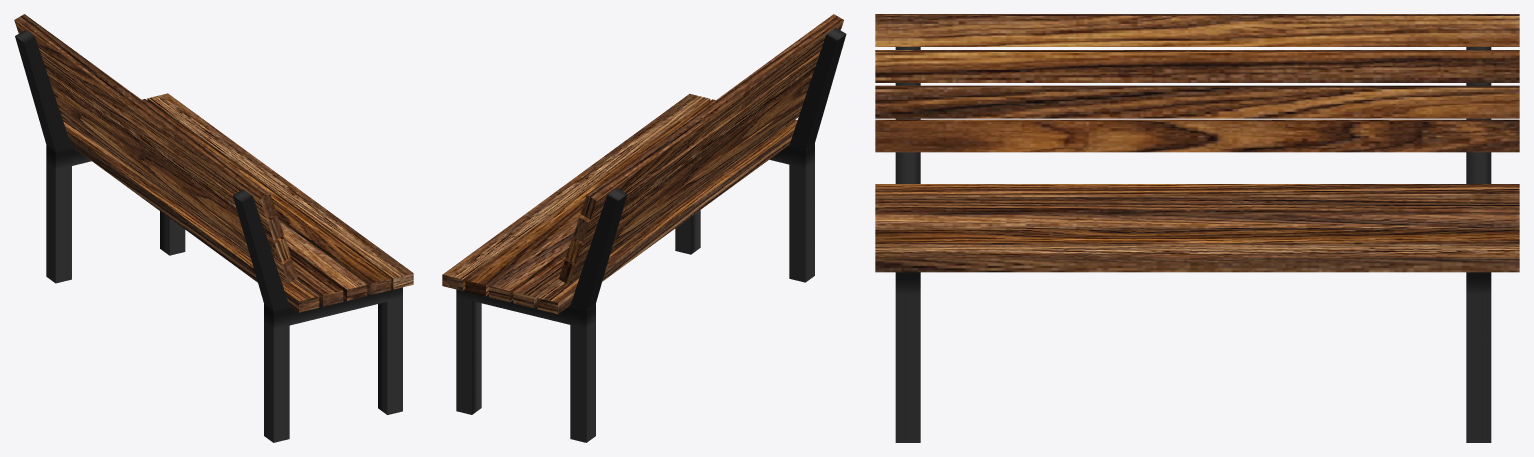
File: PARK_BENCH.fbx
3 renders of one model, left to right at view 1: azimuth 30°, elevation 25°; view 2: azimuth 150°, elevation 25°; view 3: azimuth 270°, elevation 25°, orthographic. The views are drawn at different scales.
Visible parts, largest first — view 1: PARK_BENCH; view 2: PARK_BENCH; view 3: PARK_BENCH.
Boxes of the visible parts, <box> form: PARK_BENCH: <box>14,14,413,442</box>; PARK_BENCH: <box>442,14,846,442</box>; PARK_BENCH: <box>875,14,1519,442</box>.
Size of the model in its own units: 68.37 by 103 by 178.
